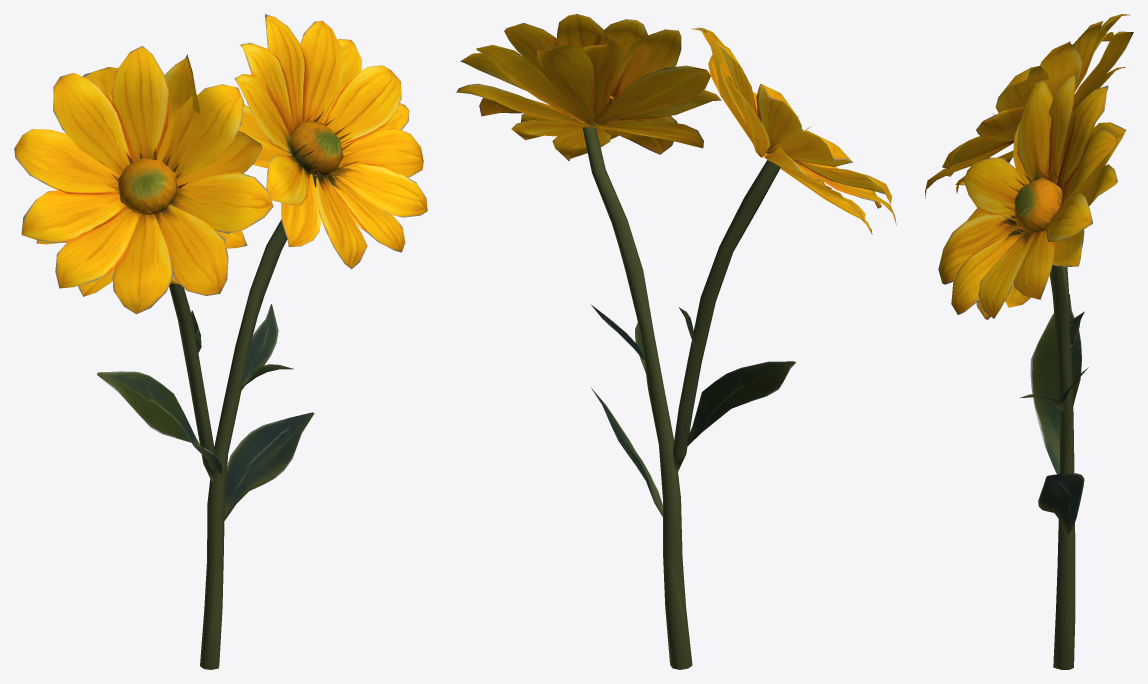
The model's file is Yellow_flower.glb.
3 views of the same model, side by side, from view 1: azimuth 30°, elevation 25°; view 2: azimuth 150°, elevation 25°; view 3: azimuth 270°, elevation 25° (orthographic). The views are drawn at different scales.
Visible parts, largest first — view 1: geometry_0; view 2: geometry_0; view 3: geometry_0.
Part boxes in pixels (x1,y1,x2,y2): geometry_0: (14, 14, 427, 669); geometry_0: (456, 14, 896, 669); geometry_0: (925, 14, 1133, 669).
Bounding box in the file's own units: 0.6465 × 0.9531 × 0.291.
1 material, 1 textured.
